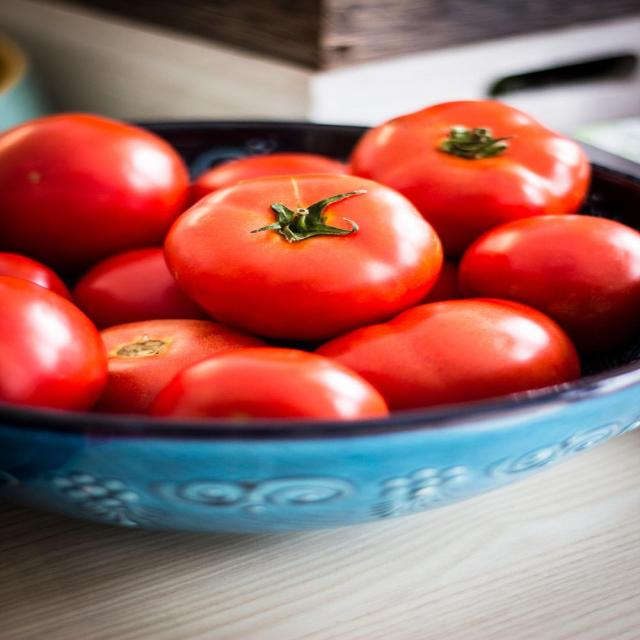Tomato: (159, 173, 455, 321), (358, 98, 589, 220), (315, 298, 579, 398), (159, 344, 396, 435), (463, 209, 640, 319)
